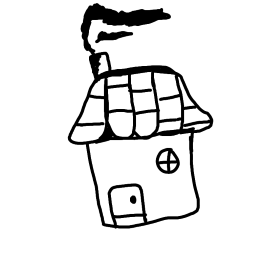closed_window: (148, 145, 187, 179)
door: (104, 179, 156, 235)
roof: (55, 59, 215, 143)
smoking_chimney: (75, 0, 173, 78)
wall: (81, 126, 205, 233)
